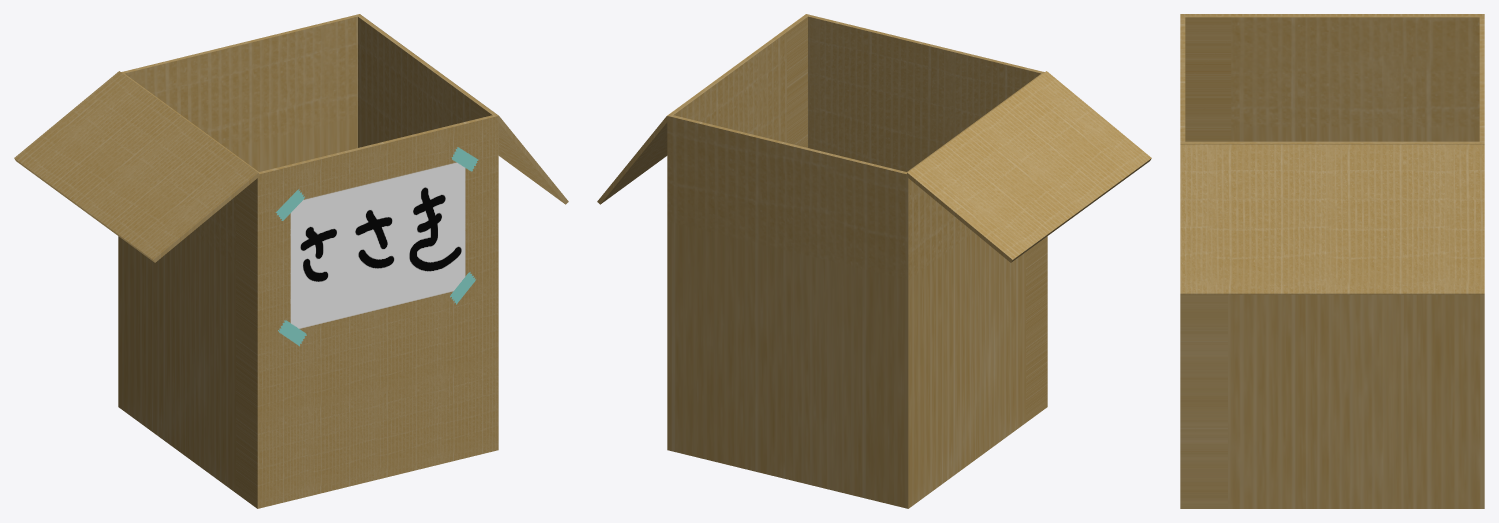
Rendered from Cardboard_MsgE.fbx.
The picture shows the model from 3 angles, left to right: view 1: azimuth 30°, elevation 25°; view 2: azimuth 150°, elevation 25°; view 3: azimuth 270°, elevation 25°; orthographic projection. The views are drawn at different scales.
Visible parts, largest first — view 1: Cardboard_MsgEtype; view 2: Cardboard_MsgEtype; view 3: Cardboard_MsgEtype.
Part boxes in pixels (box(x1,y1,x2,y2)): Cardboard_MsgEtype: box(14, 14, 568, 508); Cardboard_MsgEtype: box(597, 14, 1151, 508); Cardboard_MsgEtype: box(1180, 14, 1484, 508).
Bounding box in the file's own units: 345 × 266 × 200.
